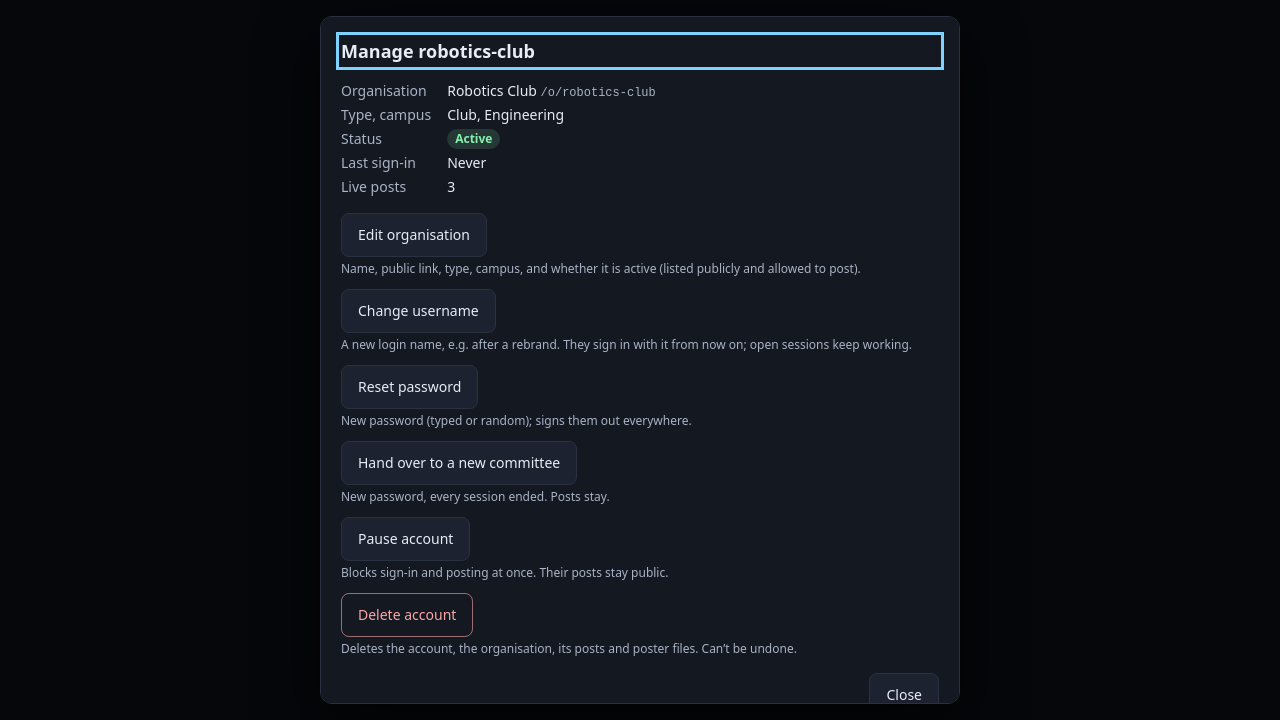
Test case: account actions › hands over: a new password that ends every session, shown once
The width and height of the screenshot is (1280, 720).
Check: the text "New password, every session ended. Posts stay." is shown, box [341,488,610,505]
Click the button "Hand over to a new committee". click: coordinates (459, 463)
box: [341,441,577,485]
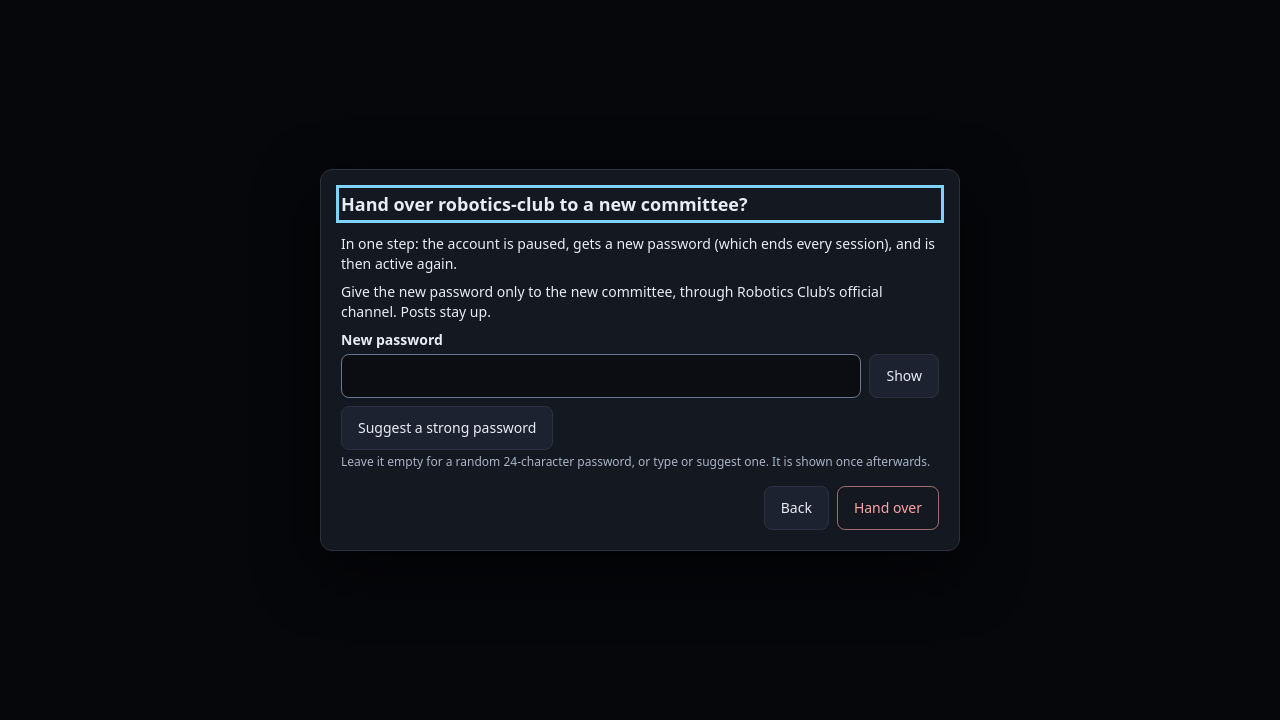
Check: the heading "Hand over robotics-club to a new committee?" is shown, box [341,192,748,216]
Click the button "Hand over". click: coordinates (888, 508)
box: [837,486,939,530]
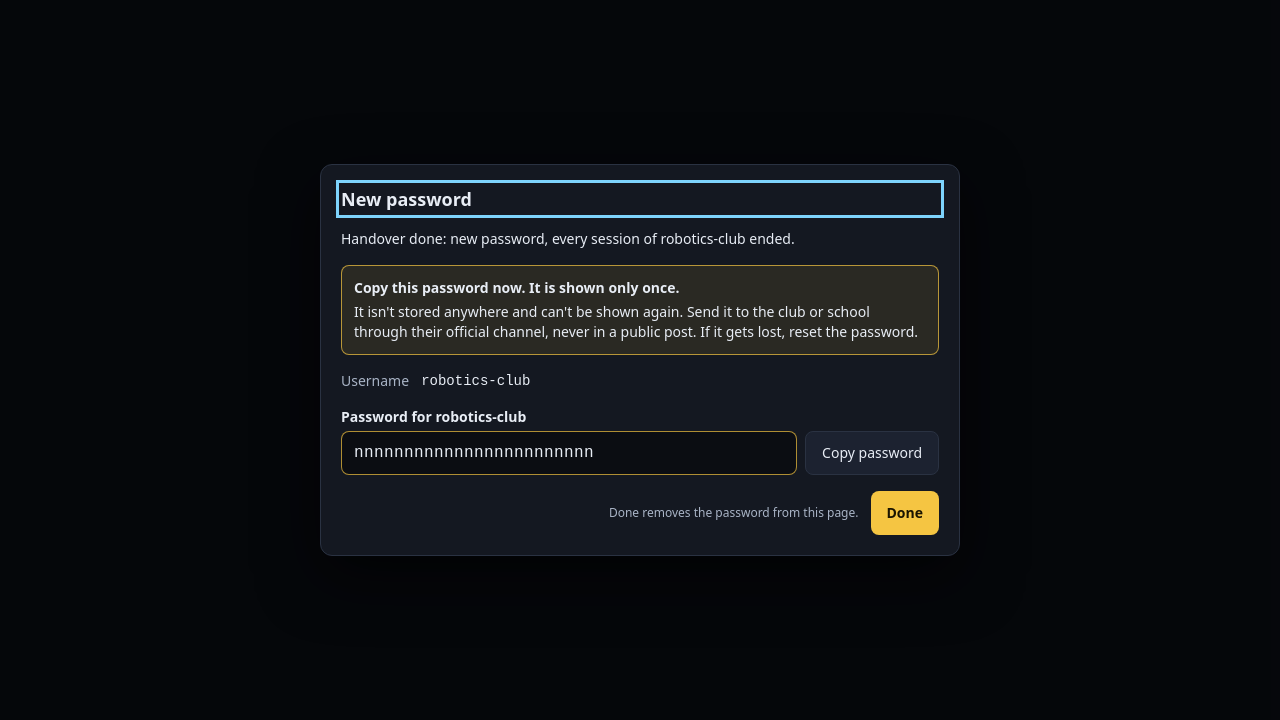
Check: the text "Handover done: new password, every session of robotics-club ended." is shown, box [341,229,795,248]
